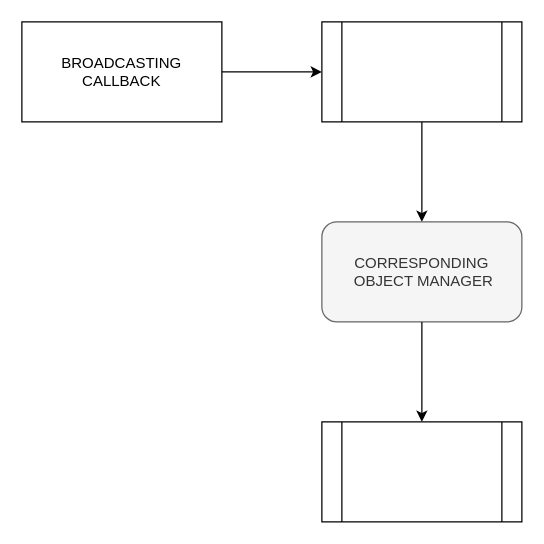
Image size: 544x544. Some labels were removed from this diagram. The shapes that lost their labels are listed below. From the top down, each one's centre as x and y in pixels, then its label:
point 421,71: BUILD PACKET
point 421,471: PUSH PACKETS TO PACKETS QUEUE
